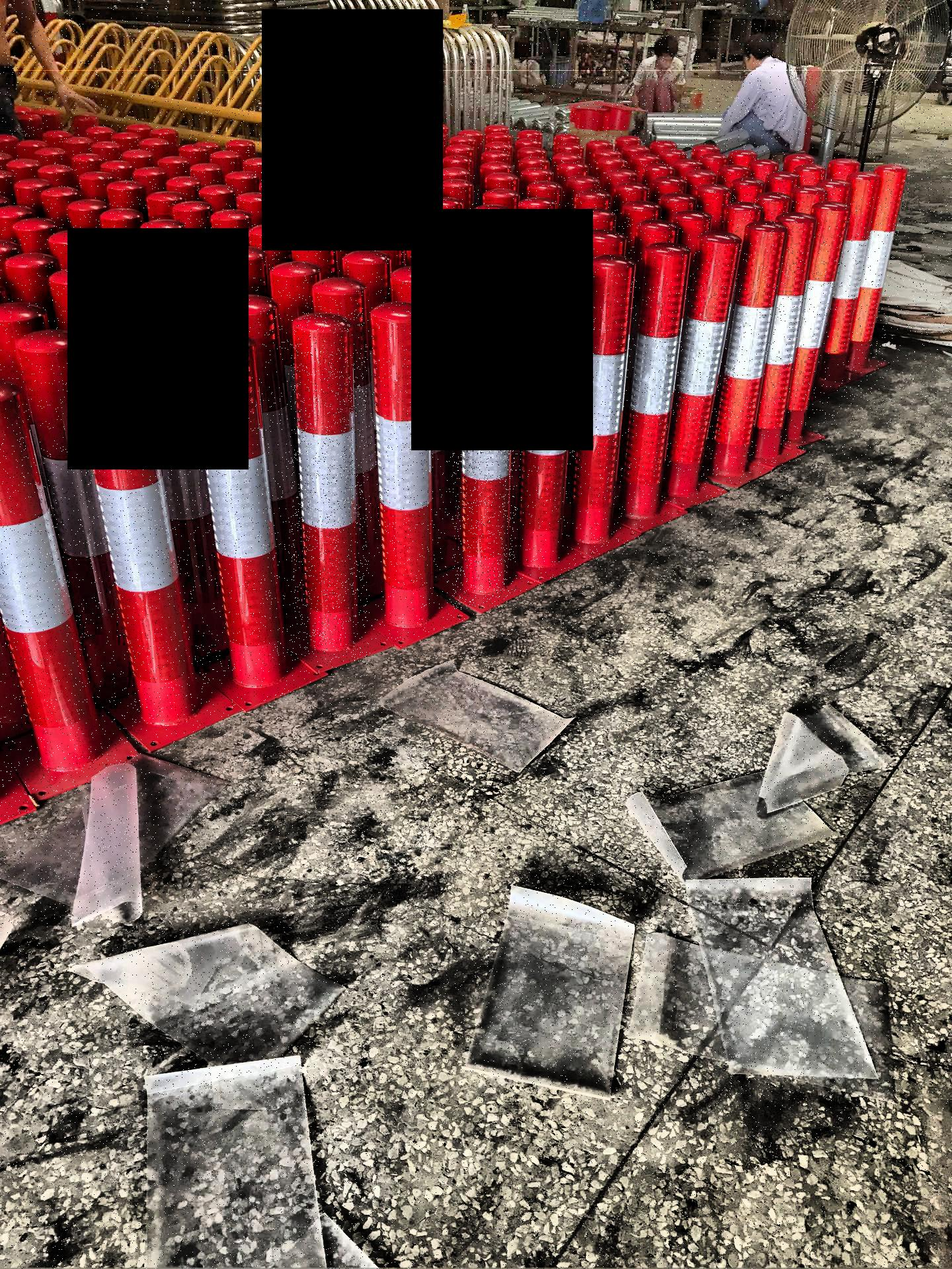bench: (291, 311, 368, 664), (452, 284, 518, 609)
